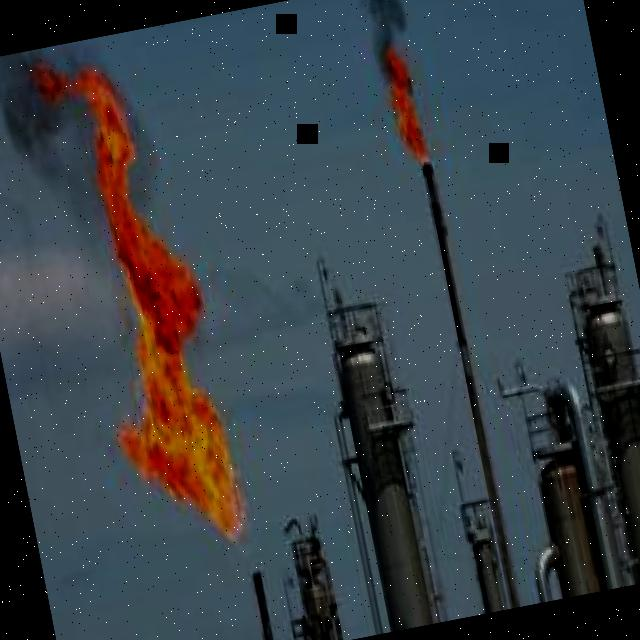fire: (29, 53, 249, 568), (382, 34, 429, 162)
smoke: (0, 52, 113, 247), (61, 49, 163, 231), (361, 0, 405, 99)
